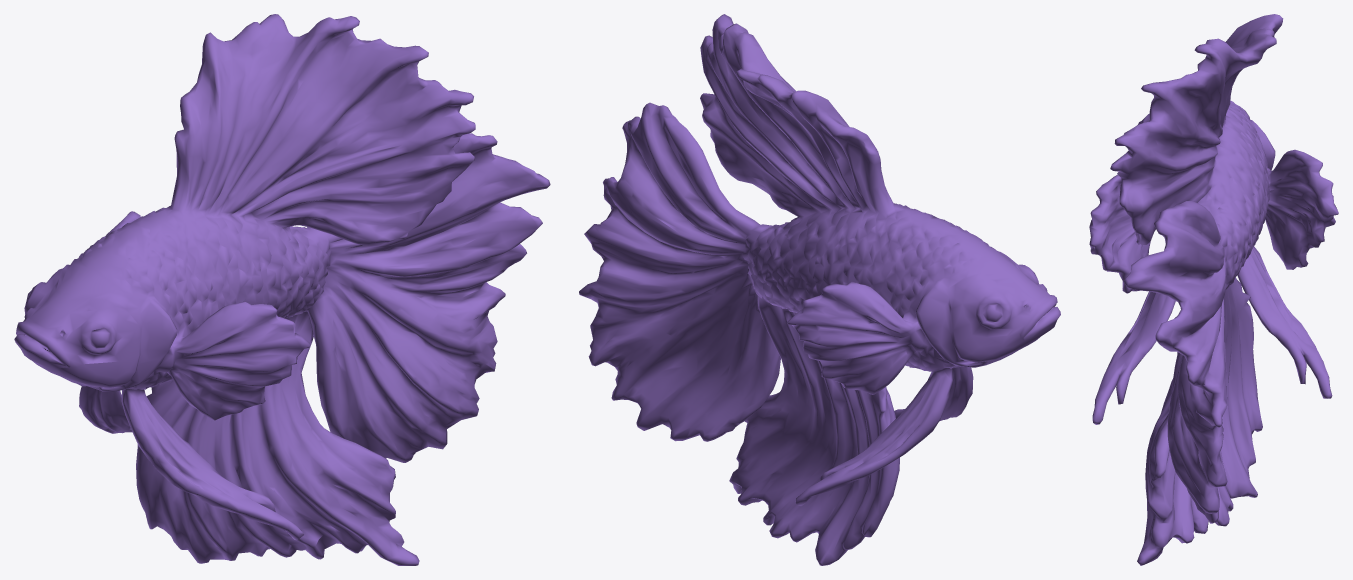
Rendered from betta-fish.glb.
3 renders of one model, left to right at view 1: azimuth 30°, elevation 25°; view 2: azimuth 150°, elevation 25°; view 3: azimuth 270°, elevation 25°, orthographic. The views are drawn at different scales.
Visible parts, largest first — view 1: sculpturale-betta-figur (1); view 2: sculpturale-betta-figur (1); view 3: sculpturale-betta-figur (1).
Boxes of the visible parts, x1,y1,x2,y2 form: sculpturale-betta-figur (1): (14,14,550,565); sculpturale-betta-figur (1): (579,14,1060,565); sculpturale-betta-figur (1): (1089,14,1338,565).
Size of the model in its own units: 99.52 by 100 by 44.44.
